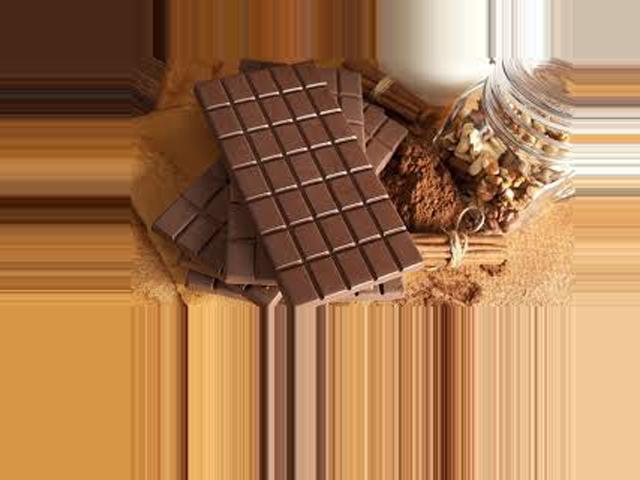chocolate: (190, 68, 435, 306)
